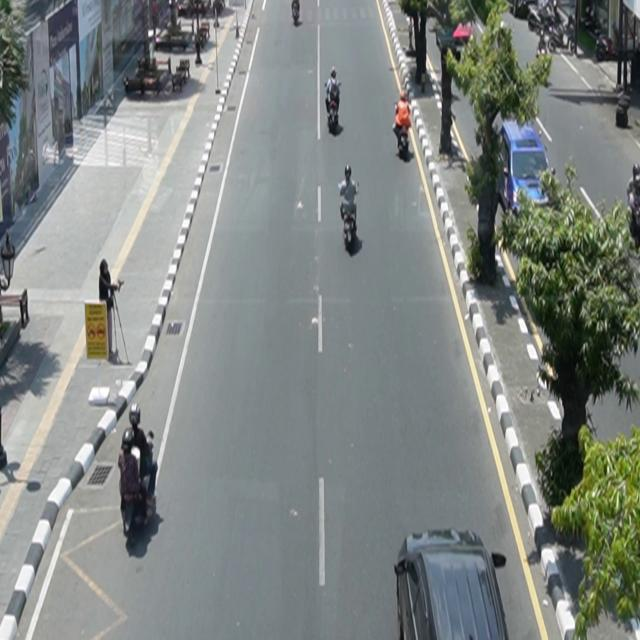car: (395, 528, 510, 640), (494, 116, 556, 218)
